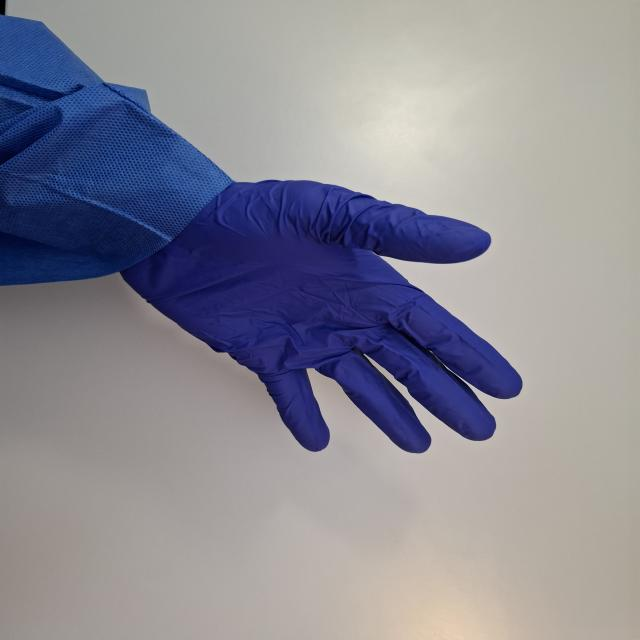glove_on: (112, 175, 526, 456)
